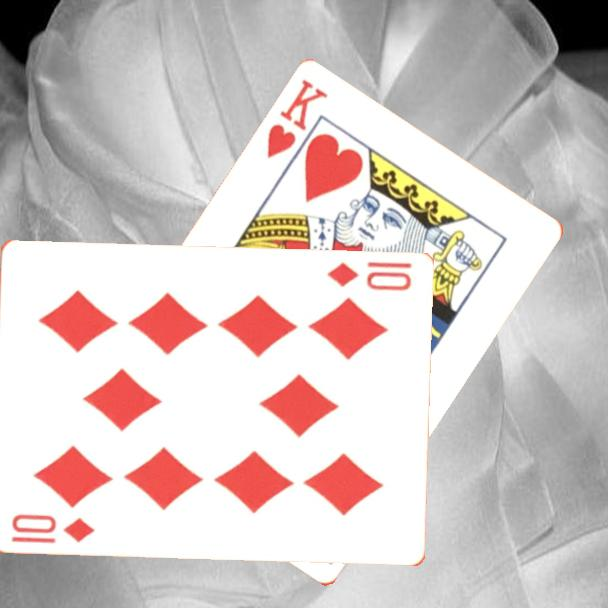d10: (323, 259, 414, 294), (8, 511, 97, 546)
h13: (263, 76, 331, 162)
